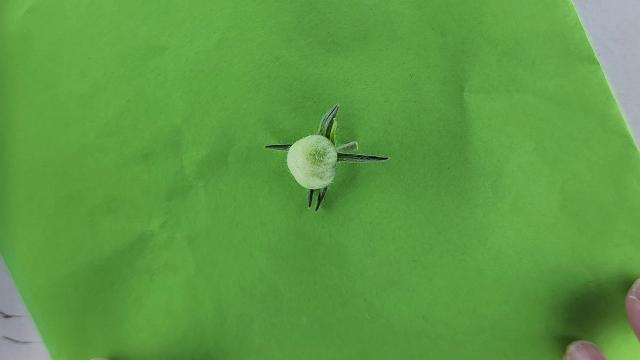Fruit Maturation: (286, 135, 340, 191)
